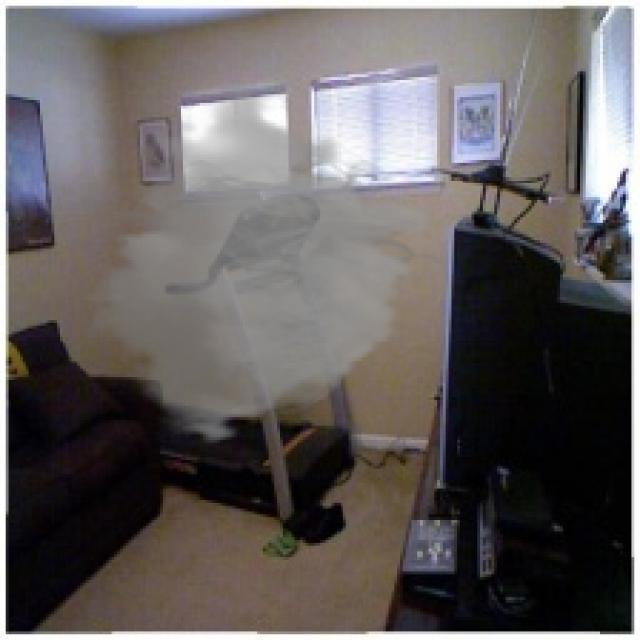Smoke: (54, 80, 452, 446)
